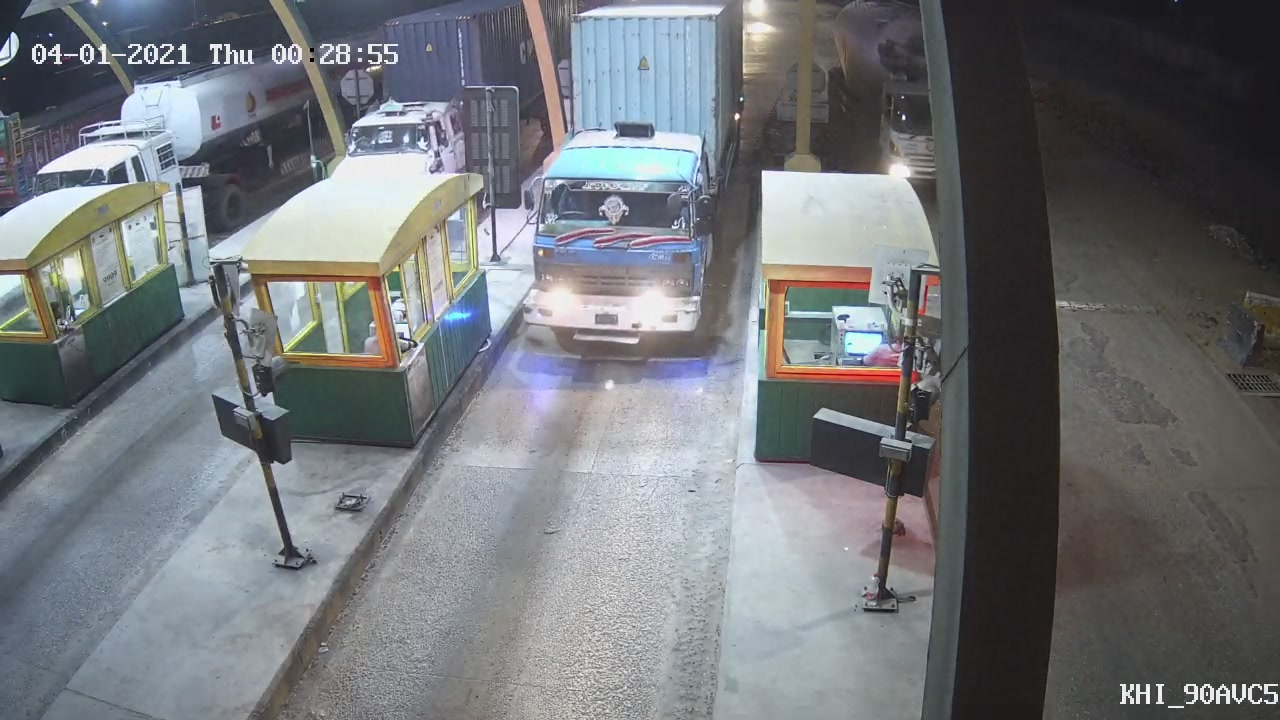F6: (519, 1, 752, 363)
